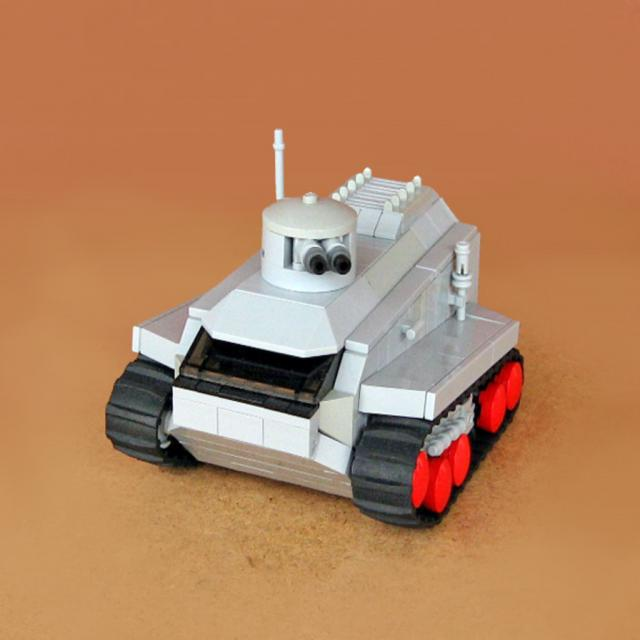tank: (104, 130, 524, 530)
